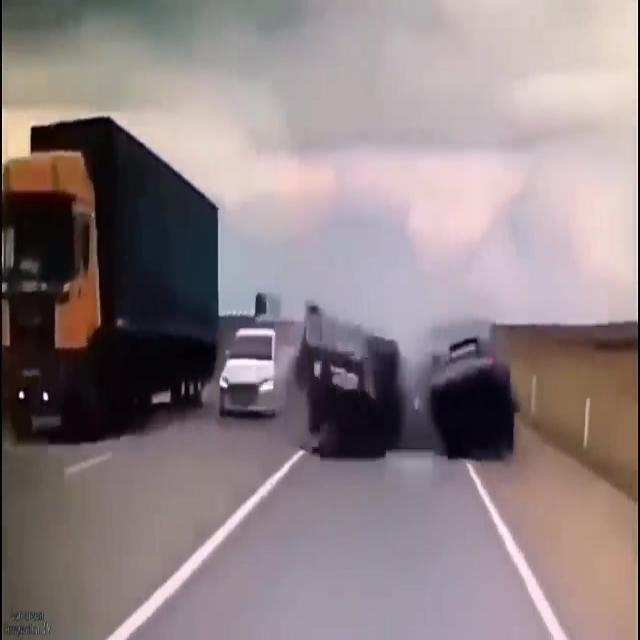accident: (300, 282, 511, 462)
